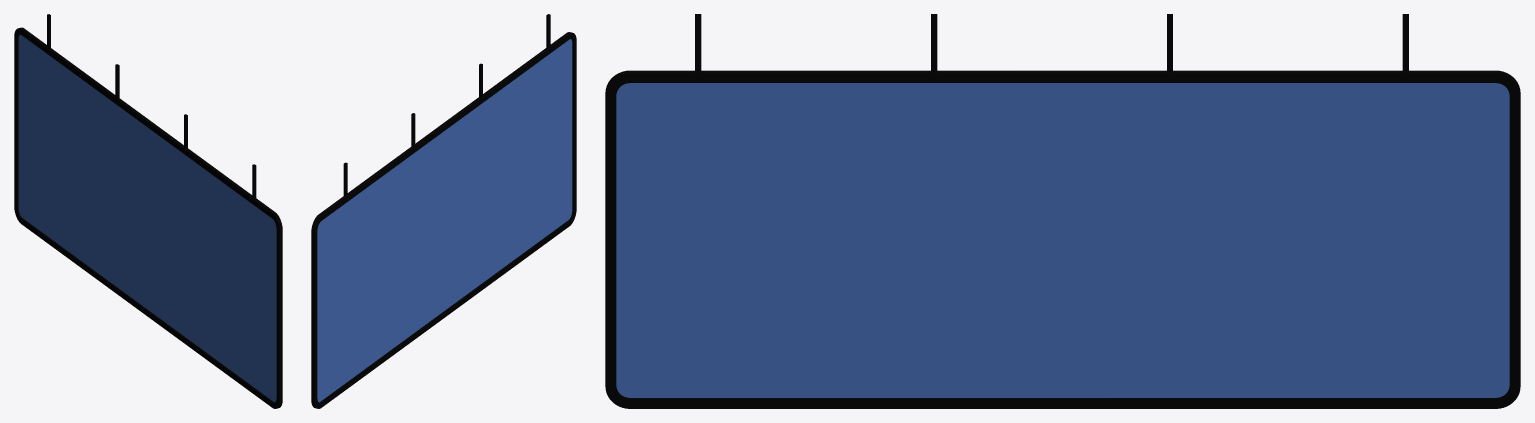
The model's file is panel_big.FBX.
The picture shows the model from 3 angles, left to right: view 1: azimuth 30°, elevation 25°; view 2: azimuth 150°, elevation 25°; view 3: azimuth 270°, elevation 25°; orthographic projection. The views are drawn at different scales.
Visible parts, largest first — view 1: panel_big; view 2: panel_big; view 3: panel_big.
Part boxes in pixels (x1=…): panel_big: x1=14, y1=14, x2=282, y2=408; panel_big: x1=311, y1=14, x2=576, y2=408; panel_big: x1=605, y1=14, x2=1520, y2=408.
Bounding box in the file's own units: 0.4168 × 29.18 × 61.61.
